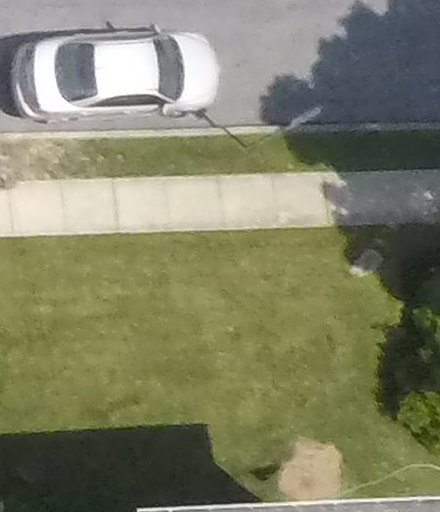car: (7, 32, 225, 127)
street: (2, 1, 438, 126)
